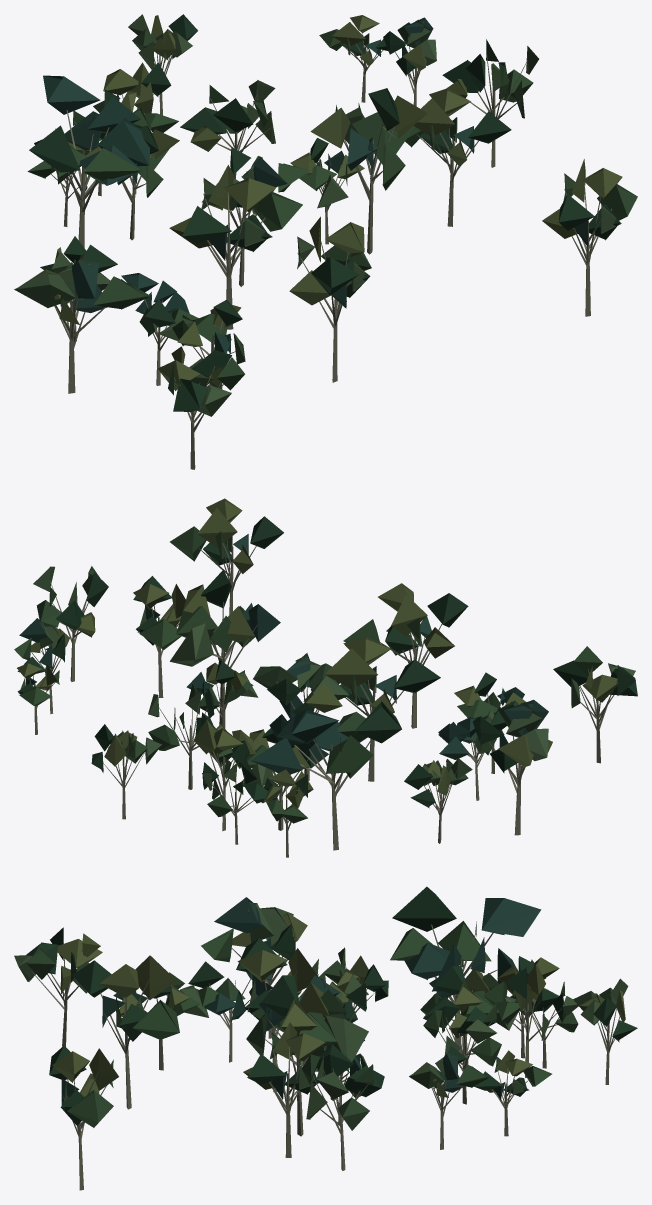
Rendered from forest_17_22.dae.
The picture shows the model from 3 angles, top to bottom: view 1: azimuth 30°, elevation 25°; view 2: azimuth 150°, elevation 25°; view 3: azimuth 270°, elevation 25°; orthographic projection. The views are drawn at different scales.
Parts seen in each view (by area): view 1: Node; view 2: Node; view 3: Node.
Part boxes in pixels (bbox=[...]): Node: bbox=[14, 14, 637, 469]; Node: bbox=[14, 498, 637, 857]; Node: bbox=[14, 886, 637, 1190].
Size of the model in its own units: 10.65 by 10.94 by 4.17.
